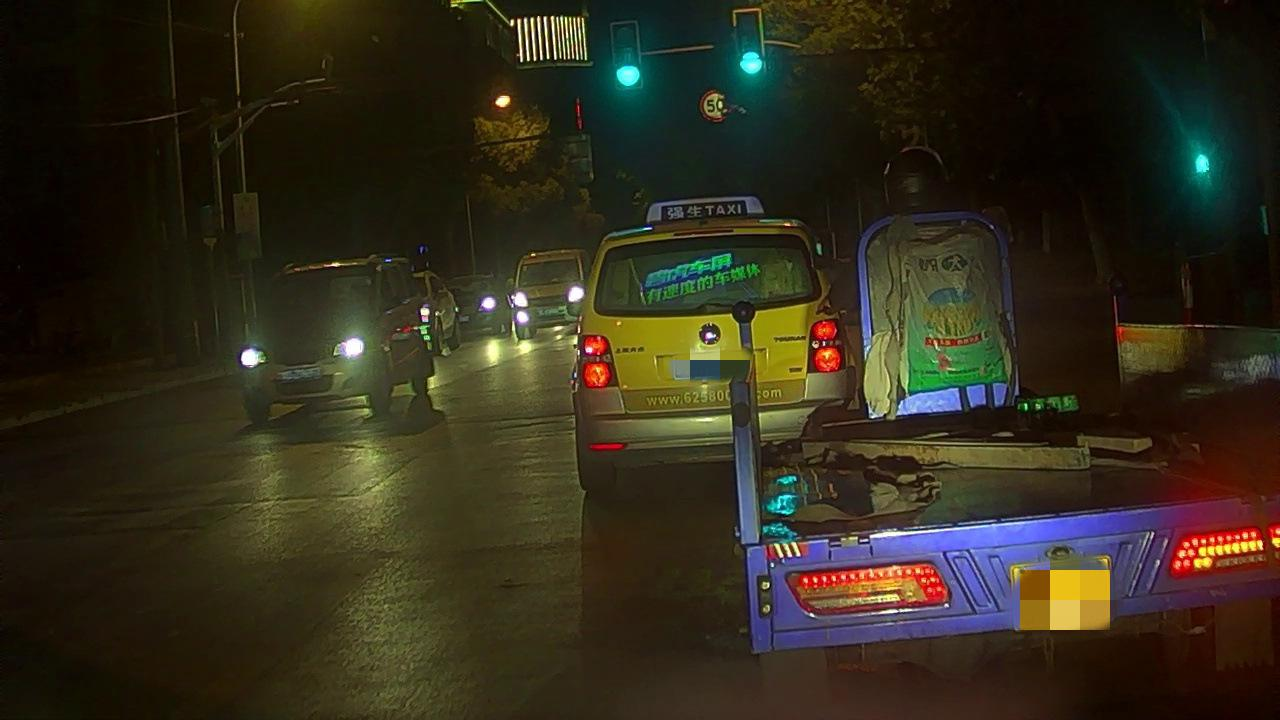traffic_light: (733, 13, 763, 84), (611, 24, 641, 90)
